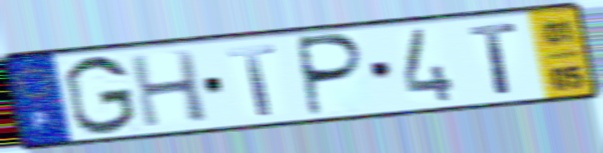4: (402, 26, 456, 105)
G: (61, 53, 139, 137)
H: (125, 48, 212, 130)
P: (297, 31, 369, 119)
T: (224, 42, 280, 118), (465, 20, 521, 96)
